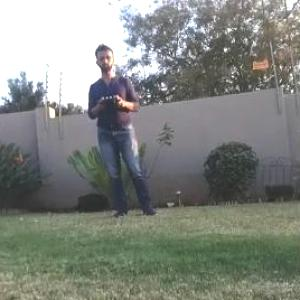follow: (83, 35, 161, 219)
